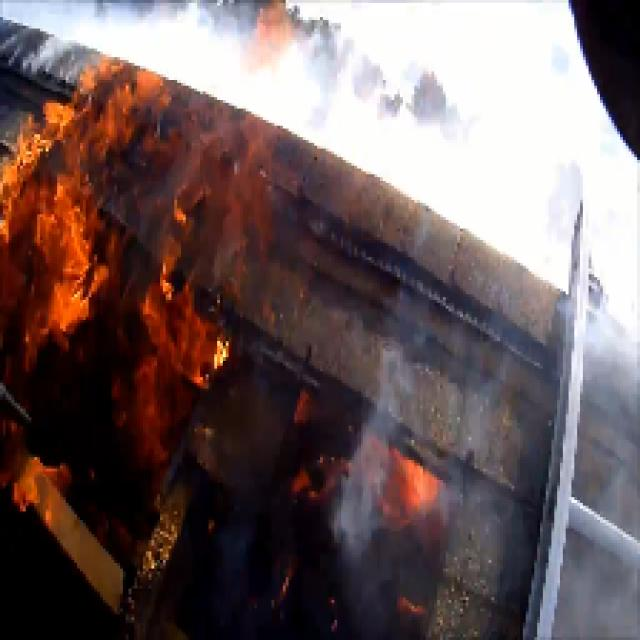fire: (4, 104, 239, 427)
